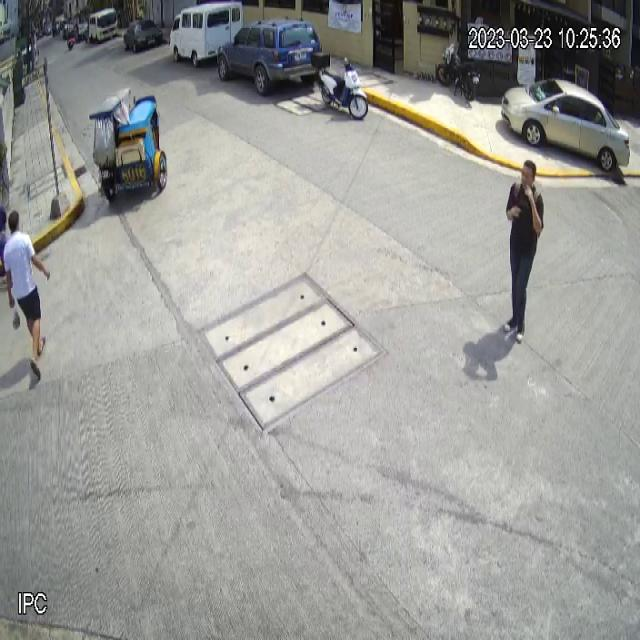Car: (501, 78, 630, 171), (216, 16, 323, 96)
Motorcycle: (309, 49, 369, 120)
Tricycle: (88, 86, 169, 203)
Van: (169, 0, 242, 69)
